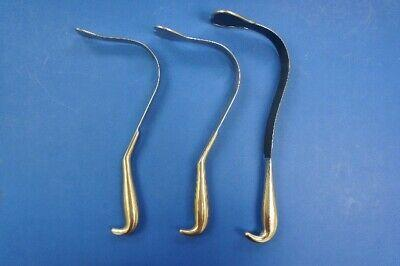Harrington Retractor: (210, 4, 295, 248), (152, 16, 245, 239), (63, 20, 153, 239)
